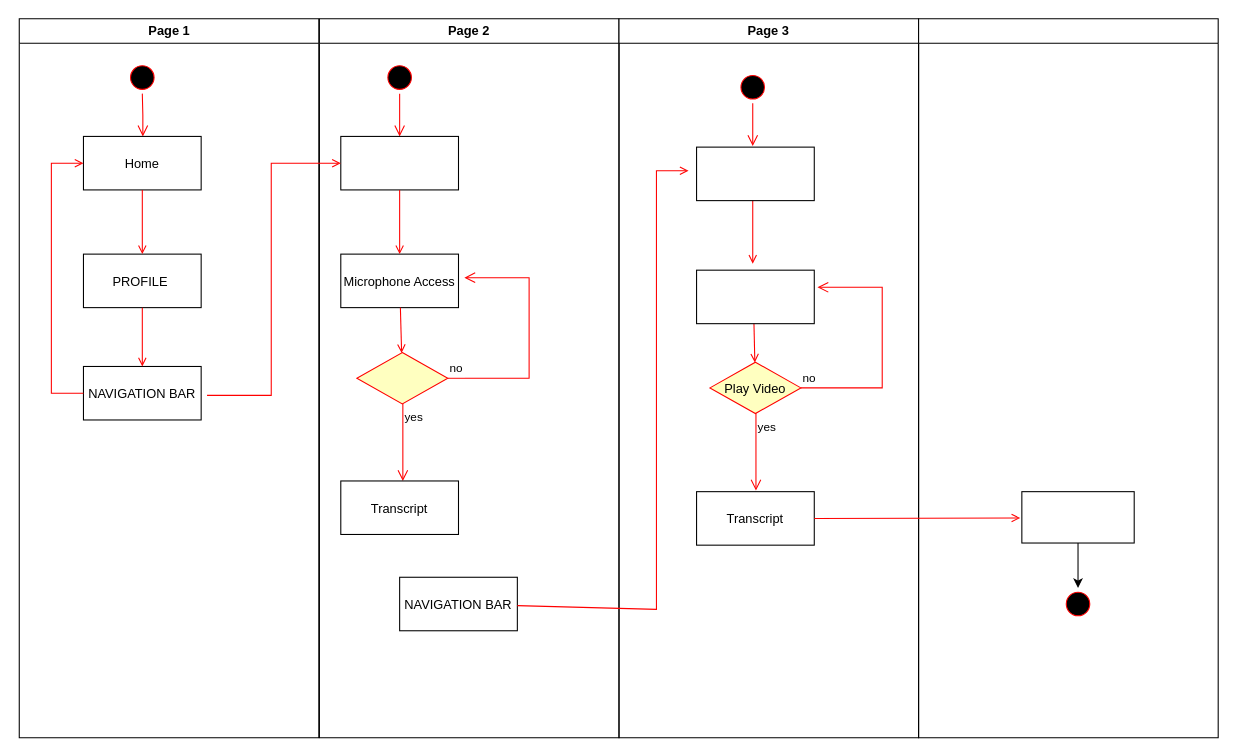
Some shapes in this 1237 by 756 pixel diagram are drawn without their labels. Each missing label, with the centre of its shape:
Audio To Text: the point at 399,162
Process End: the point at 1077,517
Record Audio: the point at 402,377
Video URL: the point at 755,296
Youtube Vide: the point at 755,173
